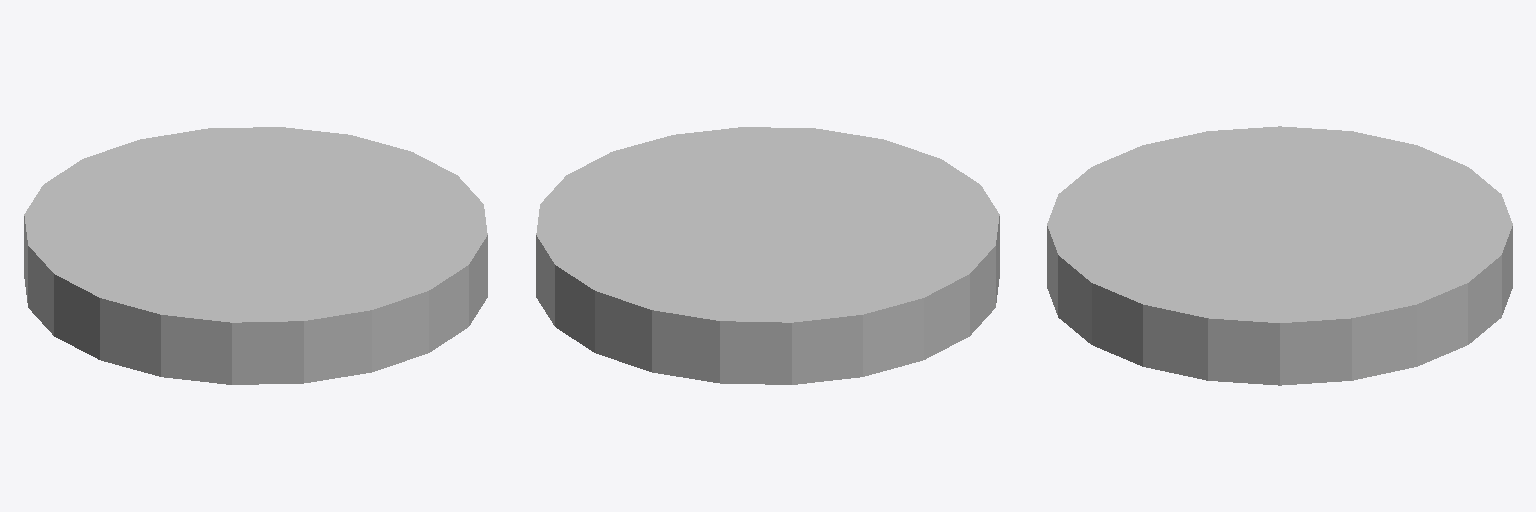
Rendered from fund-chit.obj.
The picture shows the model from 3 angles: view 1: azimuth 30°, elevation 25°; view 2: azimuth 150°, elevation 25°; view 3: azimuth 270°, elevation 25°; orthographic projection.
Visible parts, largest first — view 1: pCylinder1; view 2: pCylinder1; view 3: pCylinder1.
Part boxes in pixels (x1,y1,x2,y2): pCylinder1: (24,127,487,384); pCylinder1: (536,127,999,384); pCylinder1: (1047,126,1512,385).
Bounding box in the file's own units: 1.01 × 0.1498 × 1.01.